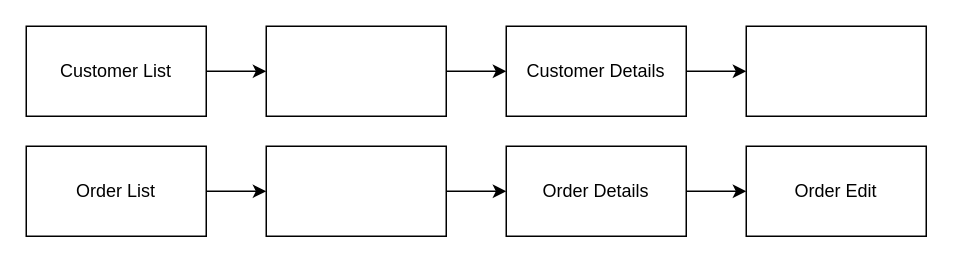
Image size: 953x263. Some labels were removed from this diagram. Here are the shapes that lost their labels. From the top down, the centre of each, then its label:
At (355,70): "Customer Create".
At (835,70): "Customer Edit".
At (355,190): "Order Create".
